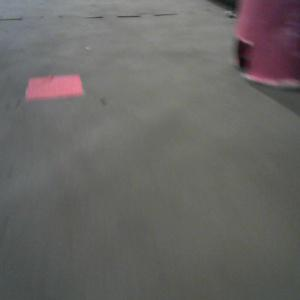Right: (234, 1, 300, 88)
